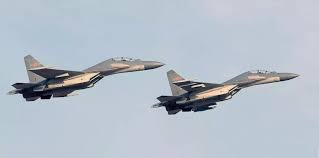fighter: (5, 52, 168, 103), (151, 67, 303, 118)
